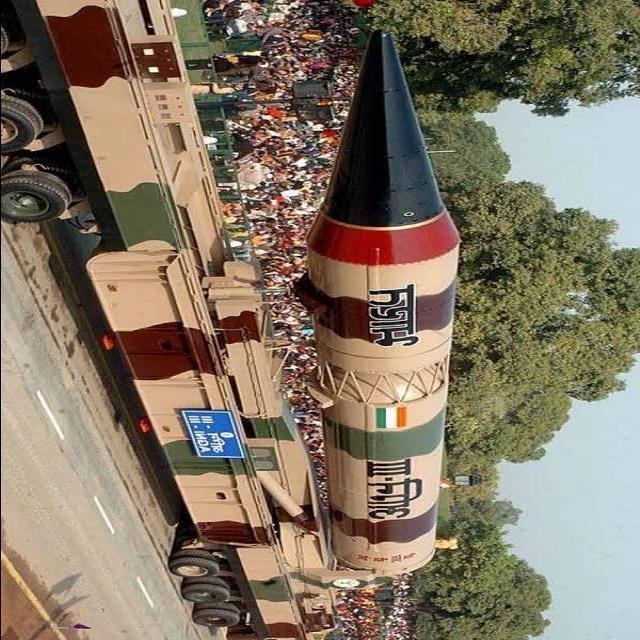missile: (314, 22, 458, 585)
